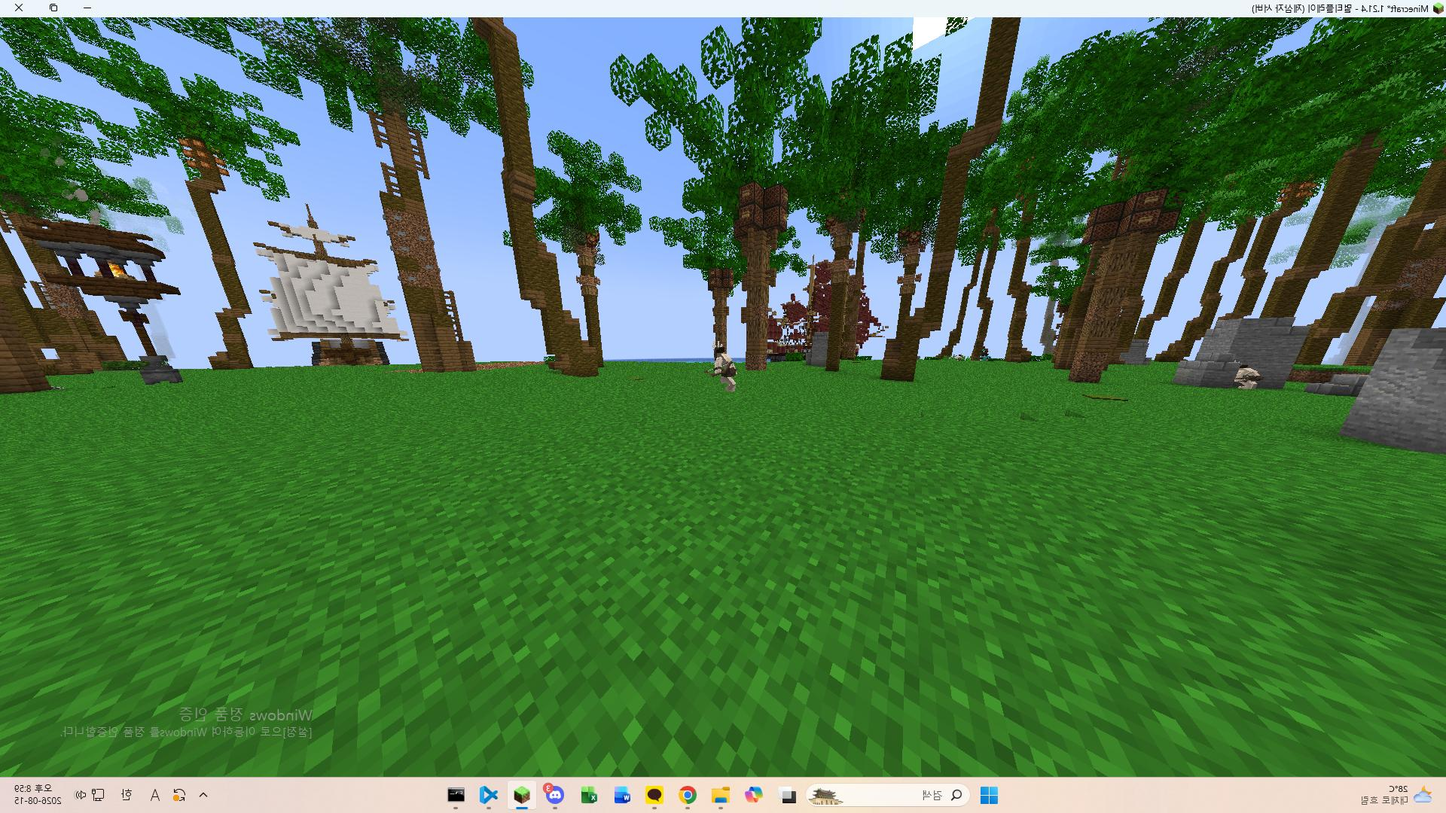bow_indian: (685, 339, 748, 399)
